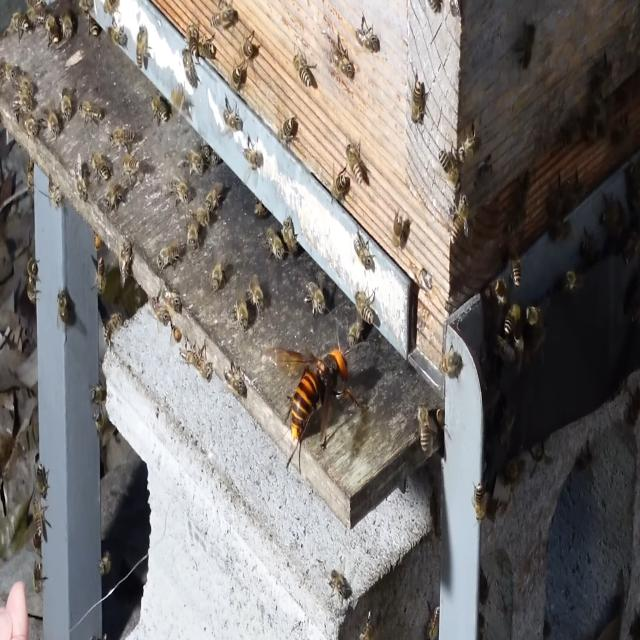Bees: (326, 32, 355, 84), (436, 139, 462, 194), (345, 137, 371, 190), (406, 68, 428, 126), (324, 562, 352, 607), (239, 133, 265, 180), (291, 42, 317, 89), (446, 194, 469, 246), (223, 356, 249, 398), (355, 12, 381, 54), (436, 344, 464, 382), (458, 118, 481, 164), (352, 228, 376, 272), (220, 94, 244, 138), (352, 285, 377, 326), (68, 160, 90, 206), (192, 338, 214, 383), (303, 278, 326, 321), (415, 401, 433, 454), (179, 147, 207, 181), (180, 45, 200, 92), (329, 162, 350, 206), (471, 480, 490, 528), (281, 205, 299, 254), (19, 108, 44, 143), (135, 23, 153, 70), (42, 99, 63, 139), (119, 239, 136, 288), (157, 240, 182, 272), (44, 169, 64, 209), (31, 497, 50, 539), (149, 92, 171, 128), (165, 176, 190, 207), (101, 312, 123, 346), (231, 294, 250, 333), (247, 274, 265, 314), (151, 296, 174, 327), (91, 252, 107, 296), (207, 5, 236, 29), (34, 459, 50, 502), (108, 127, 135, 152), (202, 183, 226, 211), (90, 151, 111, 183), (77, 99, 101, 127), (161, 285, 183, 314), (276, 117, 298, 146), (504, 302, 521, 339), (266, 227, 285, 260), (7, 12, 29, 40), (103, 184, 125, 212), (508, 251, 524, 289), (390, 214, 406, 252), (32, 558, 48, 596), (186, 21, 201, 61), (54, 288, 68, 329), (210, 260, 227, 293), (200, 34, 218, 65), (44, 13, 59, 50), (238, 32, 257, 61), (347, 316, 364, 348), (59, 85, 73, 122), (121, 154, 141, 179), (228, 60, 246, 87), (190, 205, 210, 229), (186, 220, 200, 253), (26, 158, 36, 200)
Hornets: (261, 330, 370, 474)
